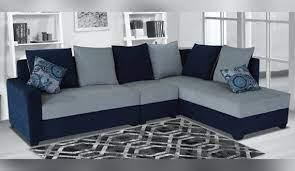door: (271, 15, 292, 110), (243, 10, 267, 93)
sofa: (4, 41, 292, 147)
